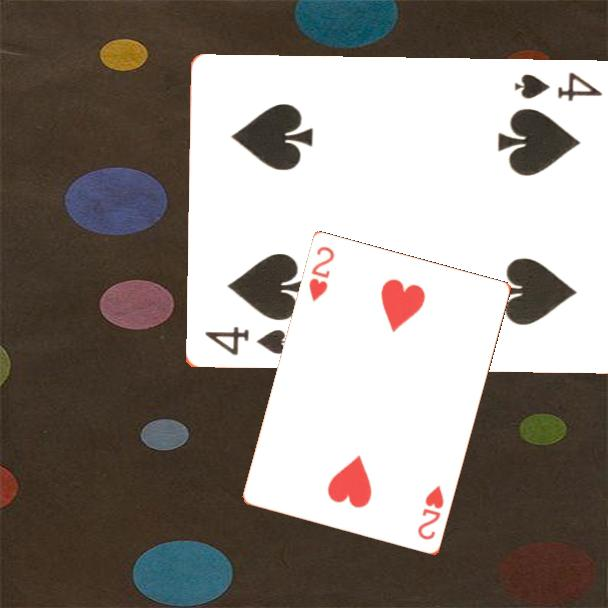h02: (414, 482, 447, 543), (306, 243, 338, 305)
s04: (510, 69, 604, 105), (201, 323, 294, 359)
